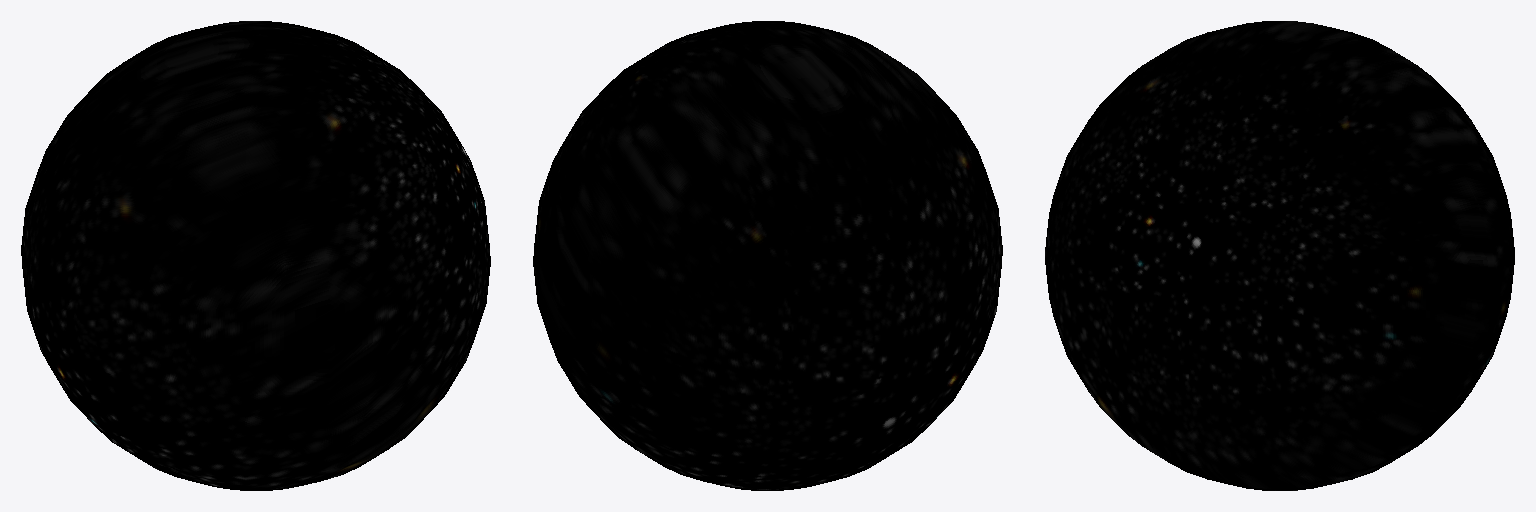
3 renders of one model, left to right at view 1: azimuth 30°, elevation 25°; view 2: azimuth 150°, elevation 25°; view 3: azimuth 270°, elevation 25°, orthographic.
Parts seen in each view (by area): view 1: Sphere; view 2: Sphere; view 3: Sphere.
Part boxes in pixels (x1,y1,x2,y2): Sphere: (21,21,490,490); Sphere: (533,21,1002,490); Sphere: (1045,21,1514,490).
Bounding box in the file's own units: 4 × 4 × 4.
1 materials, 1 textured.